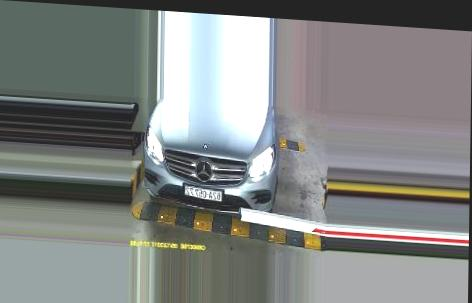License_Plate: (184, 185, 224, 202)
